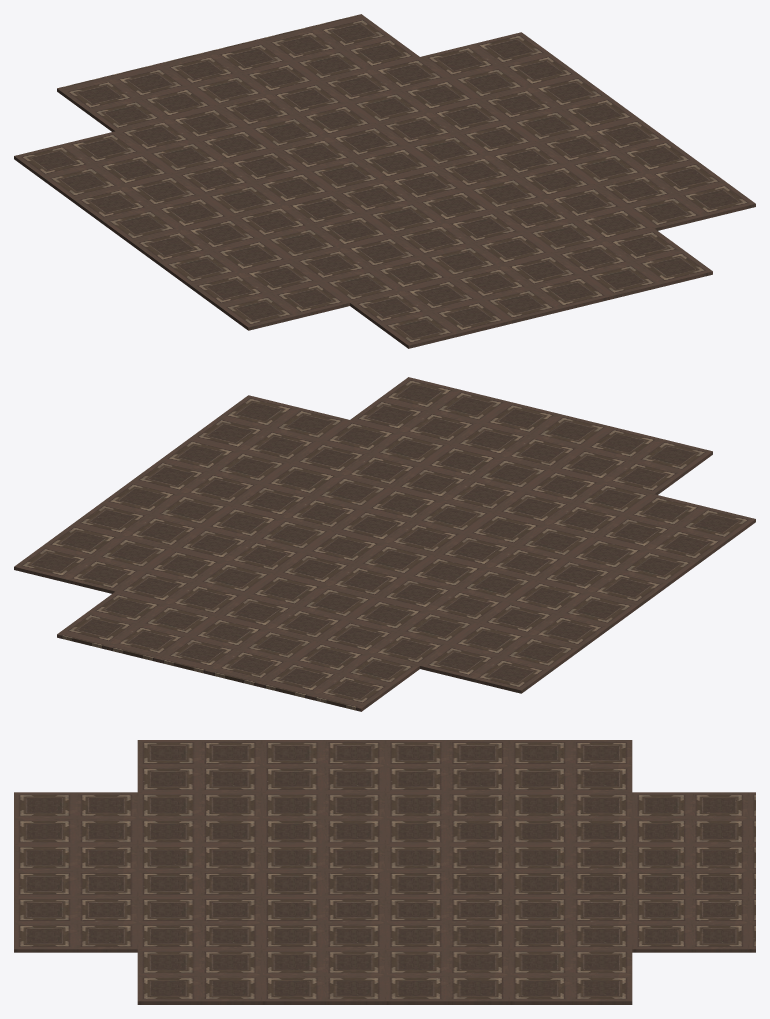
File: Homeworld_Interior_Ly_Room_D_Ceiling_01_Vo.fbx
3 views of the same model, one above another, from view 1: azimuth 30°, elevation 25°; view 2: azimuth 150°, elevation 25°; view 3: azimuth 270°, elevation 25° (orthographic). The views are drawn at different scales.
Parts seen in each view (by area): view 1: Homeworld_Interior_Ly_Room_D_Ceiling_01_Vo; view 2: Homeworld_Interior_Ly_Room_D_Ceiling_01_Vo; view 3: Homeworld_Interior_Ly_Room_D_Ceiling_01_Vo.
Part boxes in pixels (x1,y1,x2,y2): Homeworld_Interior_Ly_Room_D_Ceiling_01_Vo: (14, 14, 755, 348); Homeworld_Interior_Ly_Room_D_Ceiling_01_Vo: (14, 377, 755, 711); Homeworld_Interior_Ly_Room_D_Ceiling_01_Vo: (14, 740, 755, 1004).
Size of the model in its own units: 25 by 0.15 by 30.
Materials: 1 (1 with a texture image).
